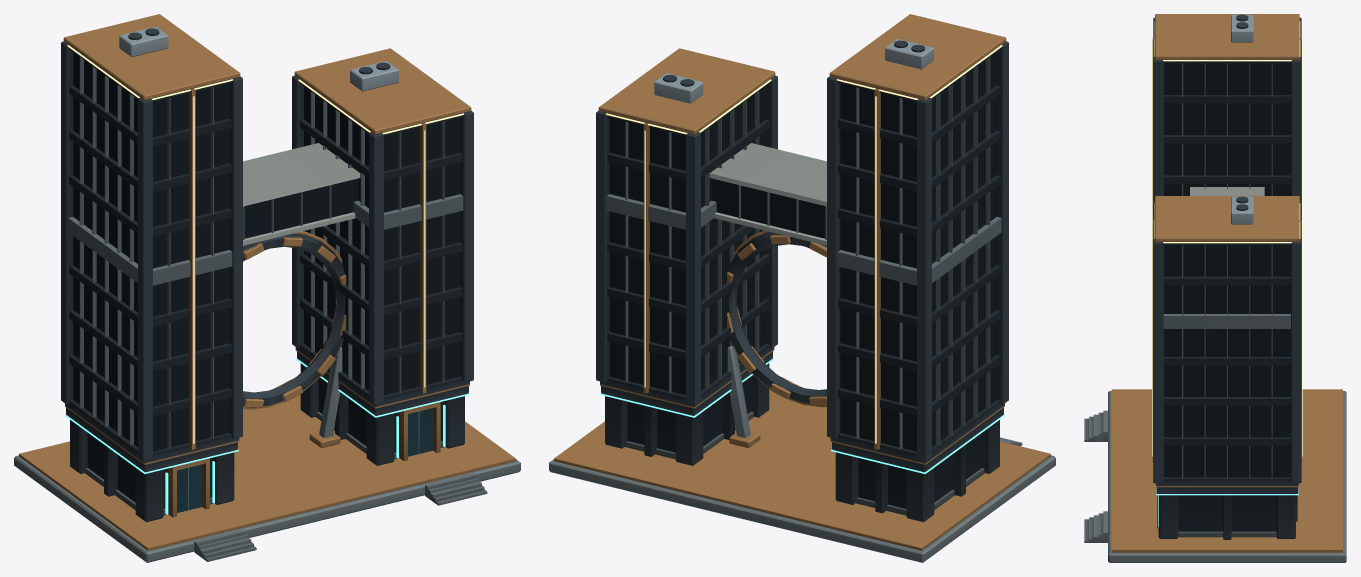
Rendered from integration-gate.lod1.glb.
3 views of the same model, side by side, from view 1: azimuth 30°, elevation 25°; view 2: azimuth 150°, elevation 25°; view 3: azimuth 270°, elevation 25° (orthographic). The views are drawn at different scales.
Visible parts, largest first — view 1: structure, lobby; view 2: structure, lobby; view 3: structure, lobby.
Part boxes in pixels (<box>): structure: <box>14,14,520,562</box>; lobby: <box>87,377,442,512</box>; structure: <box>549,14,1055,562</box>; lobby: <box>627,376,982,508</box>; structure: <box>1084,14,1346,562</box>; lobby: <box>1178,495,1276,531</box>.
Bounding box in the file's own units: 26 × 30.34 × 17.6.
